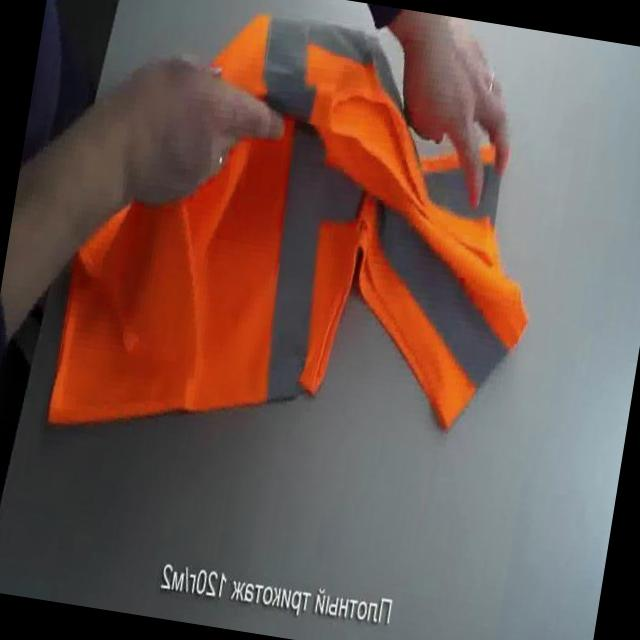vest: (38, 0, 573, 503)
